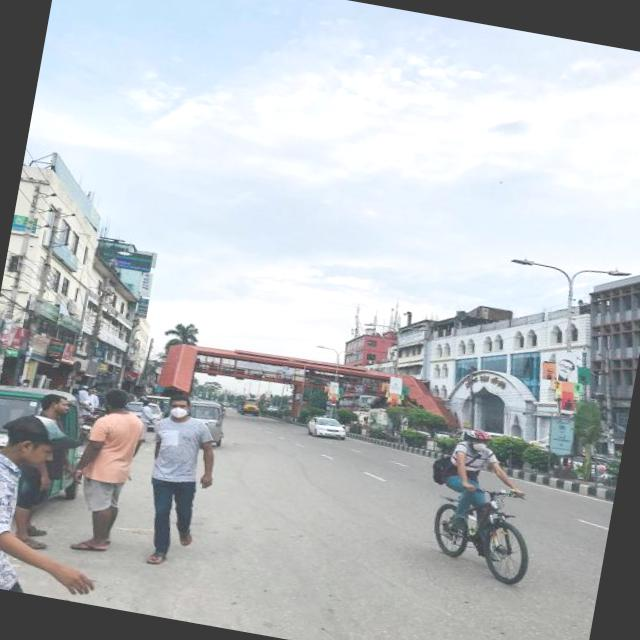car: (307, 411, 354, 441)
motorcycle: (187, 396, 233, 451)
truck: (236, 396, 265, 417)
